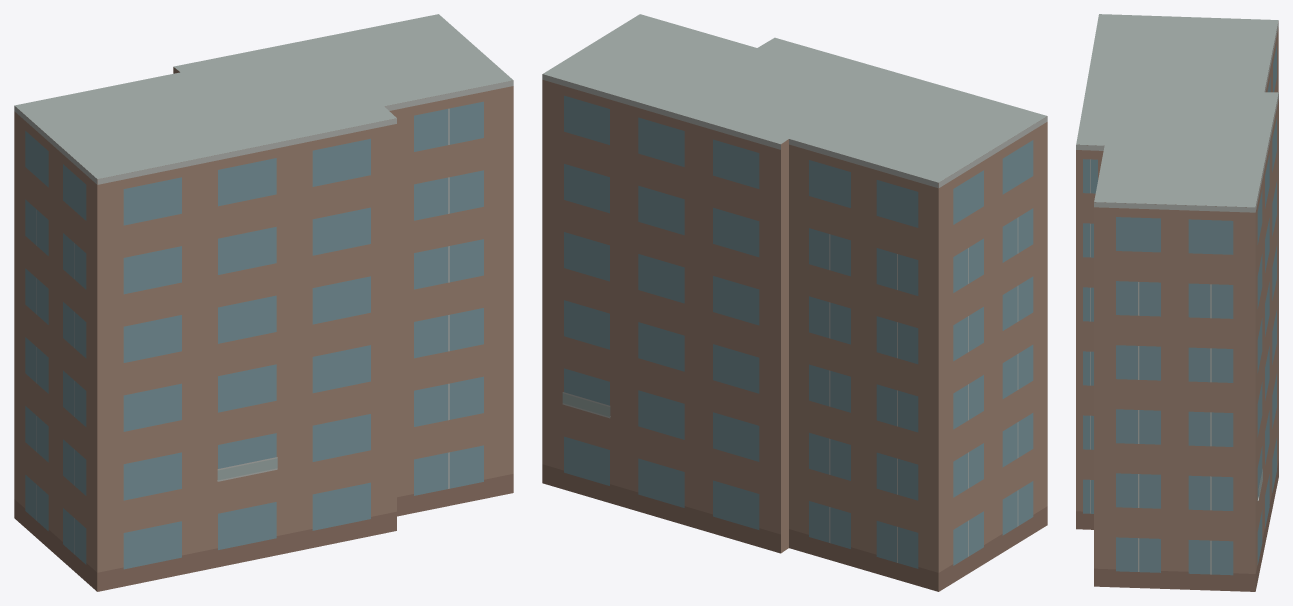
Rendered from survey-upis-32760170.glb.
The picture shows the model from 3 angles, left to right: view 1: azimuth 30°, elevation 25°; view 2: azimuth 150°, elevation 25°; view 3: azimuth 270°, elevation 25°; orthographic projection. The views are drawn at different scales.
Visible parts, largest first — view 1: survey-upis-32760170.tmp; view 2: survey-upis-32760170.tmp; view 3: survey-upis-32760170.tmp.
Part boxes in pixels (x1=…): survey-upis-32760170.tmp: x1=14, y1=14, x2=513, y2=591; survey-upis-32760170.tmp: x1=542, y1=14, x2=1047, y2=591; survey-upis-32760170.tmp: x1=1076, y1=14, x2=1278, y2=591.
Size of the model in its own units: 19.21 by 17.8 by 8.52.
